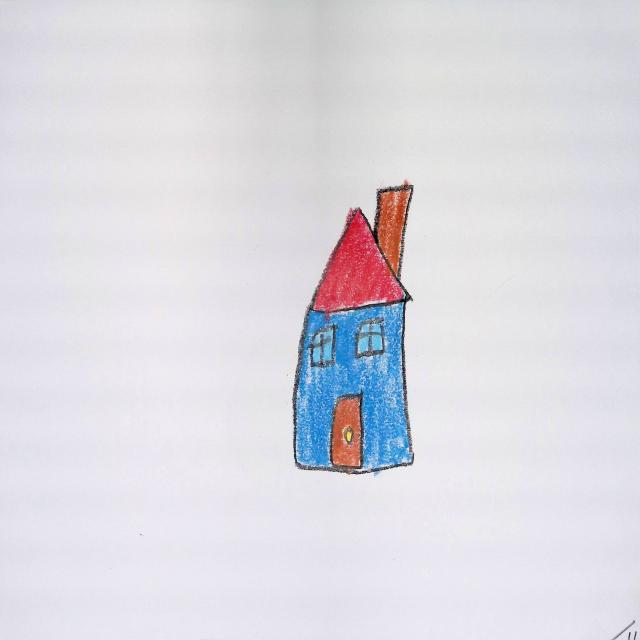chimney: (375, 181, 414, 276)
door: (332, 396, 363, 468)
house: (295, 185, 413, 474)
roof: (312, 209, 410, 312)
wall: (292, 301, 413, 476)
window: (357, 319, 385, 356), (311, 326, 335, 366)
